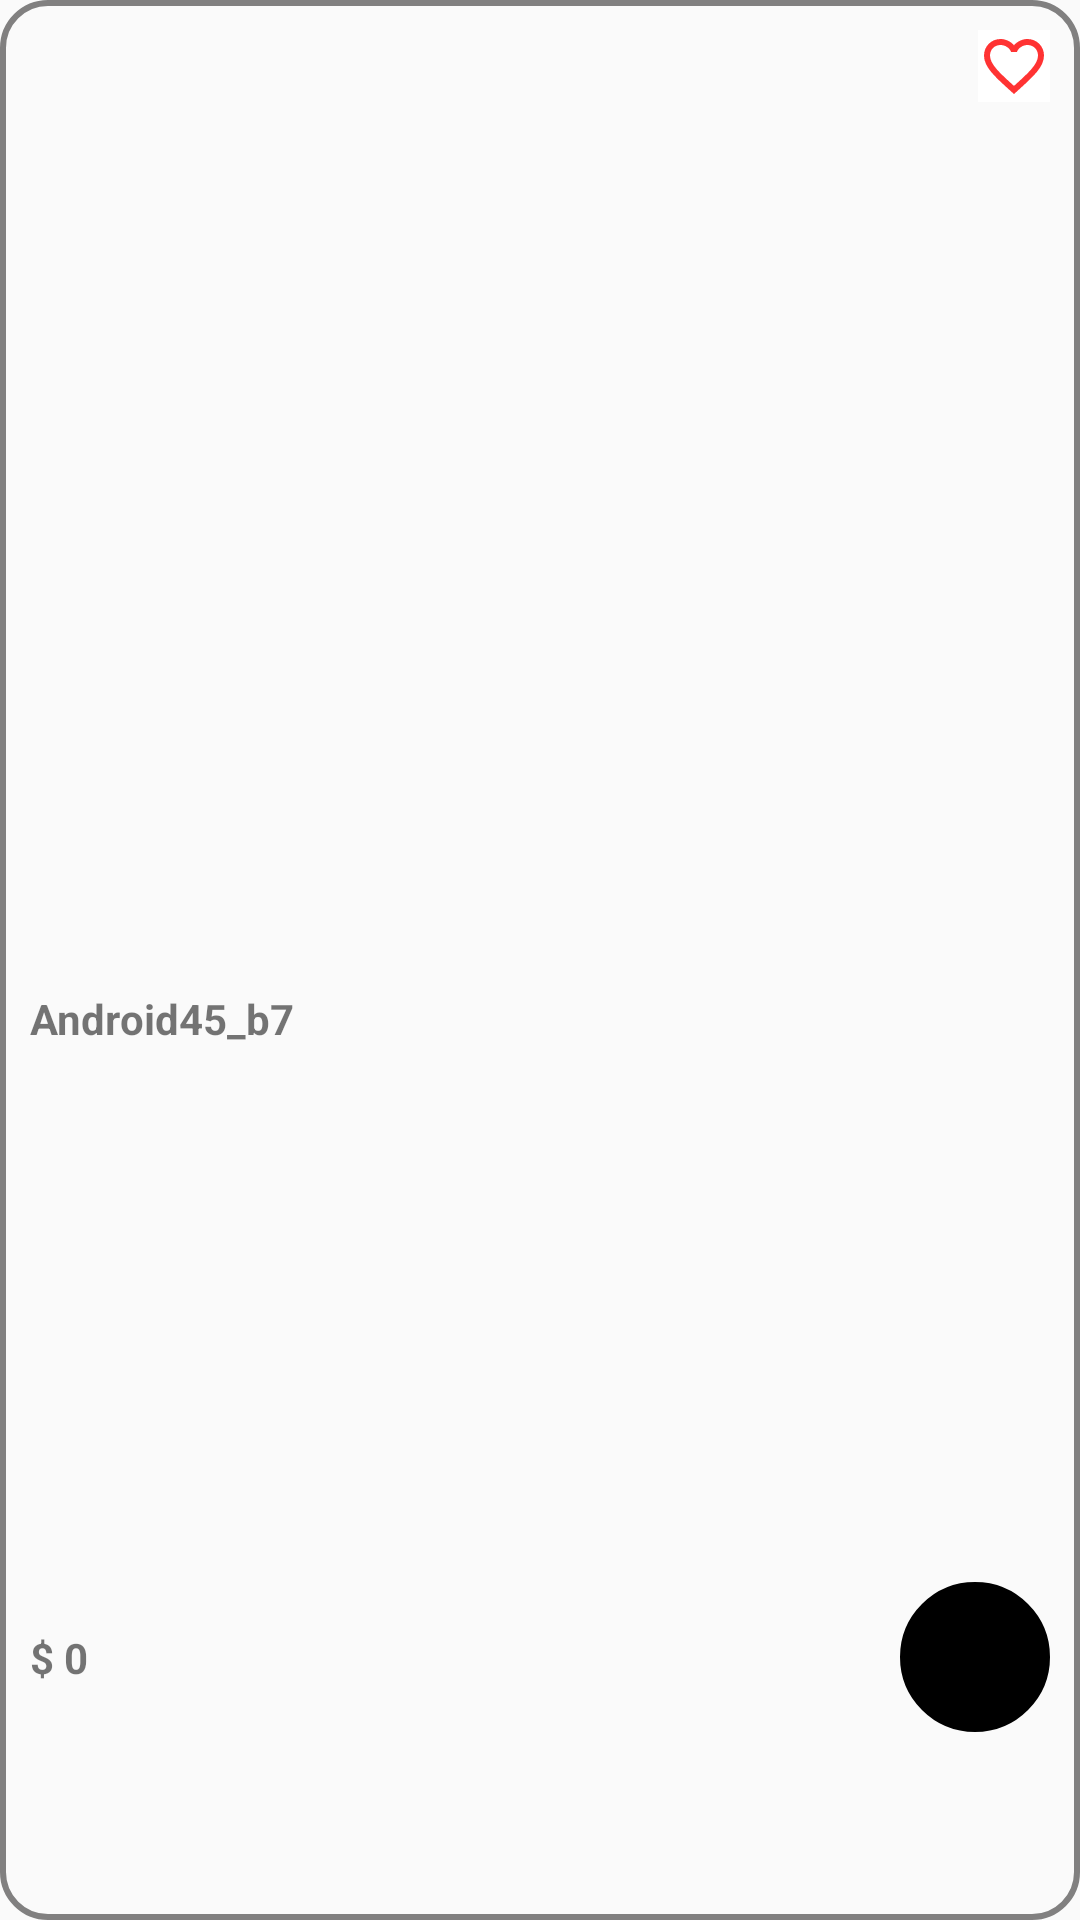

Named icons in this screenshot (1080×1920) and their centers, (x,y):
favorite border: (1014,66)
